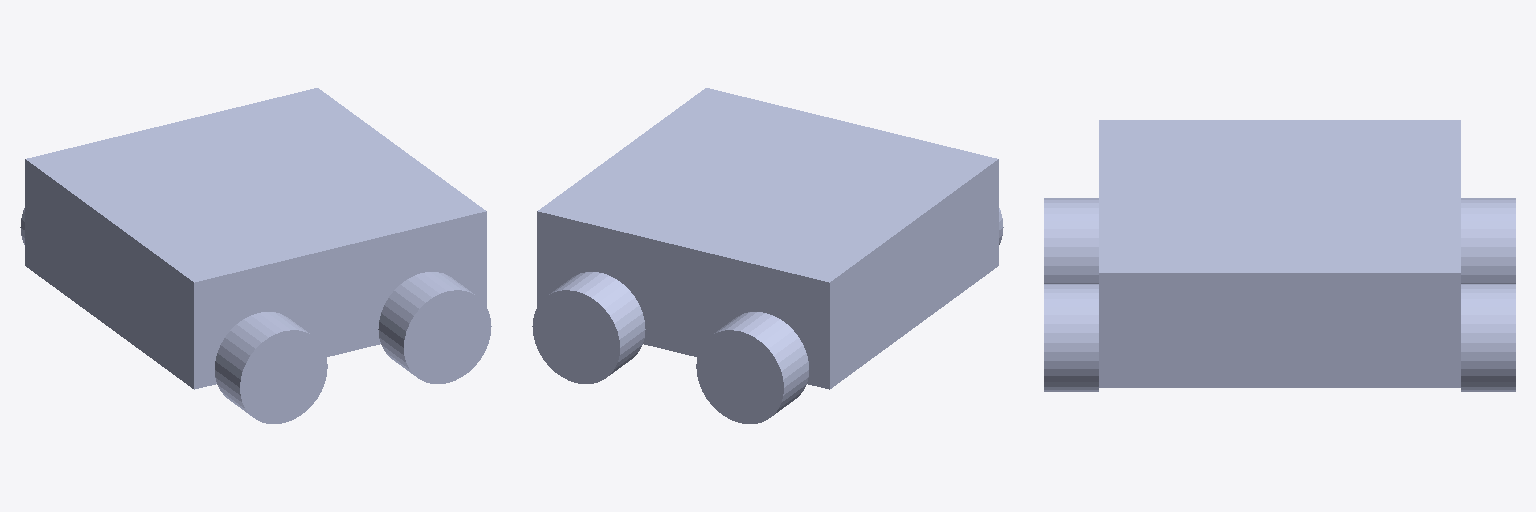
The robot description file, URDF, robot "robot_1":
<?xml version="1.0" encoding="utf-8"?>
<robot name="robot_1">

    <!-- Define the base_footprint link -->
    <link name="base_footprint">
        <!-- Define inertial, visual, and collision properties if needed -->
    </link>

    <!-- Define the base_link link -->
    <link name="base_link">
        <inertial>
            <origin xyz="0 0 0" rpy="0 0 0"/>
            <mass value="2.79660707993412"/>
            <inertia ixx="0.0104497675683349" ixy="0" ixz="0" iyy="0.0104638880534191" iyz="0" izz="0.018631250518789"/>
        </inertial>
        <visual>
            <origin xyz="0 0 0" rpy="0 0 0"/>
            <geometry>
                <mesh filename="package://robot_1/meshes/base_link.STL"/>
            </geometry>
            <material name="">
                <color rgba="0.792156862745098 0.819607843137255 0.933333333333333 1"/>
            </material>
        </visual>
        <collision>
            <origin xyz="0 0 0" rpy="0 0 0"/>
            <geometry>
                <mesh filename="package://robot_1/meshes/base_link.STL"/>
            </geometry>
        </collision>
    </link>

    <!-- Define the base_joint -->
    <joint name="base_joint" type="fixed">
        <origin xyz="0 0 0" rpy="0 0 0"/>
        <parent link="base_footprint"/>
        <child link="base_link"/>
        <axis xyz="0 0 1"/>
    </joint>

    <!-- Define Front_Left link -->
    <link name="Front_Left">
        <inertial>
            <origin xyz="0 0 0" rpy="0 0 0"/>
            <mass value="0.0853884883245706"/>
            <inertia ixx="2.58181109779992E-05" ixy="0" ixz="0" iyy="2.58181109779992E-05" iyz="0" izz="3.81728954311654E-05"/>
        </inertial>
        <visual>
            <origin xyz="0 0 0" rpy="0 0 0"/>
            <geometry>
                <mesh filename="package://robot_1/meshes/Front_Left.STL"/>
            </geometry>
            <material name="">
                <color rgba="0.792156862745098 0.819607843137255 0.933333333333333 1"/>
            </material>
        </visual>
        <collision>
            <origin xyz="0 0 0" rpy="0 0 0"/>
            <geometry>
                <mesh filename="package://robot_1/meshes/Front_Left.STL"/>
            </geometry>
        </collision>
    </link>

    <!-- Define FrontLeft joint -->
    <joint name="FrontLeft" type="continuous">
        <origin xyz="0.056 0.13 -0.06" rpy="-1.5707963267949 0 0"/>
        <parent link="base_link"/>
        <child link="Front_Left"/>
        <axis xyz="0 0 -1"/>
        <limit effort="10" velocity="10"/>
        <dynamics damping="0.1" friction="0.1"/>
    </joint>

    <!-- Define Back_Left link -->
    <link name="Back_Left">
        <inertial>
            <origin xyz="0 0 0" rpy="0 0 0"/>
            <mass value="0.0853884883245706"/>
            <inertia ixx="2.58181109779992E-05" ixy="0" ixz="0" iyy="2.58181109779992E-05" iyz="0" izz="3.81728954311654E-05"/>
        </inertial>
        <visual>
            <origin xyz="0 0 0" rpy="0 0 0"/>
            <geometry>
                <mesh filename="package://robot_1/meshes/Back_Left.STL"/>
            </geometry>
            <material name="">
                <color rgba="0.792156862745098 0.819607843137255 0.933333333333333 1"/>
            </material>
        </visual>
        <collision>
            <origin xyz="0 0 0" rpy="0 0 0"/>
            <geometry>
                <mesh filename="package://robot_1/meshes/Back_Left.STL"/>
            </geometry>
        </collision>
    </link>

    <!-- Define BackLeft joint -->
    <joint name="BackLeft" type="continuous">
        <origin xyz="-0.056 0.13 -0.06" rpy="-1.5707963267949 0 0"/>
        <parent link="base_link"/>
        <child link="Back_Left"/>
        <axis xyz="0 0 -1"/>
        <limit effort="10" velocity="10"/>
        <dynamics damping="0.1" friction="0.1"/>
    </joint>

    <!-- Define Front_Right link -->
    <link name="Front_Right">
        <inertial>
            <origin xyz="0 0 0" rpy="0 0 0"/>
            <mass value="0.0853884883245706"/>
            <inertia ixx="2.58181109779992E-05" ixy="0" ixz="0" iyy="2.58181109779992E-05" iyz="0" izz="3.81728954311654E-05"/>
        </inertial>
        <visual>
            <origin xyz="0 0 0" rpy="0 0 0"/>
            <geometry>
                <mesh filename="package://robot_1/meshes/Front_Right.STL"/>
            </geometry>
            <material name="">
                <color rgba="0.792156862745098 0.819607843137255 0.933333333333333 1"/>
            </material>
        </visual>
        <collision>
            <origin xyz="0 0 0" rpy="0 0 0"/>
            <geometry>
                <mesh filename="package://robot_1/meshes/Front_Right.STL"/>
            </geometry>
        </collision>
    </link>

    <!-- Define FrontRight joint -->
    <joint name="FrontRight" type="continuous">
        <origin xyz="0.056 -0.13 -0.06" rpy="-1.5707963267949 0 0"/>
        <parent link="base_link"/>
        <child link="Front_Right"/>
        <axis xyz="0 0 1"/>
        <limit effort="10" velocity="10"/>
        <dynamics damping="0.1" friction="0.1"/>
    </joint>

    <!-- Define Back_Right link -->
    <link name="Back_Right">
        <inertial>
            <origin xyz="0 0 0" rpy="0 0 0"/>
            <mass value="0.0853884883245706"/>
            <inertia ixx="2.58181109779992E-05" ixy="0" ixz="0" iyy="2.58181109779992E-05" iyz="0" izz="3.81728954311654E-05"/>
        </inertial>
        <visual>
            <origin xyz="0 0 0" rpy="0 0 0"/>
            <geometry>
                <mesh filename="package://robot_1/meshes/Back_Right.STL"/>
            </geometry>
            <material name="">
                <color rgba="0.792156862745098 0.819607843137255 0.933333333333333 1"/>
            </material>
        </visual>
        <collision>
            <origin xyz="0 0 0" rpy="0 0 0"/>
            <geometry>
                <mesh filename="package://robot_1/meshes/Back_Right.STL"/>
            </geometry>
        </collision>
    </link>

    <!-- Define BackRight joint -->
    <joint name="BackRight" type="continuous">
        <origin xyz="-0.056 -0.13 -0.06" rpy="-1.5707963267949 0 0"/>
        <parent link="base_link"/>
        <child link="Back_Right"/>
        <axis xyz="0 0 1"/>
        <limit effort="10" velocity="10"/>
        <dynamics damping="0.1" friction="0.1"/>
    </joint>

    <!-- Gazebo plugin -->
    <gazebo>
        <plugin name="skid_steer_drive_controller" filename="libgazebo_ros_skid_steer_drive.so">
            <updateRate>100.0</updateRate>
            <robotNamespace>/</robotNamespace>
            <leftFrontJoint>FrontLeft</leftFrontJoint>
            <rightFrontJoint>FrontRight</rightFrontJoint>
            <leftRearJoint>BackLeft</leftRearJoint>
            <rightRearJoint>BackRight</rightRearJoint>
            <wheelSeparation>0.4</wheelSeparation>
            <wheelDiameter>0.215</wheelDiameter>
            <robotBaseFrame>base_link</robotBaseFrame>
            <torque>20</torque>
            <publishWheelTF>true</publishWheelTF>
            <publishWheelJointState>true</publishWheelJointState>
            <topicName>cmd_vel</topicName>
            <odometryTopic>/odom</odometryTopic>
            <odometryFrame>odom</odometryFrame>
            <broadcastTF>false</broadcastTF>
        </plugin>
    </gazebo>
  <!-- hokuyo -->
  <gazebo reference="hokuyo_link">
    <sensor type="gpu_ray" name="head_hokuyo_sensor">
      <pose>0 0 0 0 0 0</pose>
      <visualize>false</visualize>
      <update_rate>40</update_rate>
      <ray>
        <scan>
          <horizontal>
            <samples>720</samples>
            <resolution>1</resolution>
            <min_angle>-1.570796</min_angle>
            <max_angle>1.570796</max_angle>
          </horizontal>
        </scan>
        <range>
          <min>0.10</min>
          <max>30.0</max>
          <resolution>0.01</resolution>
        </range>
        <noise>
          <type>gaussian</type>
          <!-- Noise parameters based on published spec for Hokuyo laser
               achieving "+-30mm" accuracy at range < 10m.  A mean of 0.0m and
               stddev of 0.01m will put 99.7% of samples within 0.03m of the true
               reading. -->
          <mean>0.0</mean>
          <stddev>0.01</stddev>
        </noise>
      </ray>
      <plugin name="gazebo_ros_head_hokuyo_controller" filename="libgazebo_ros_gpu_laser.so">
        <topicName>/rrbot/laser/scan</topicName>
        <frameName>hokuyo_link</frameName>
      </plugin>
    </sensor>
  </gazebo>
</robot>

--- What the picture shows (computed from the rendered views, not written in the file) ---
The picture shows the robot from 3 angles, left to right: view 1: azimuth 30°, elevation 25°; view 2: azimuth 150°, elevation 25°; view 3: azimuth 270°, elevation 25°; orthographic projection.
Model robot_1 with 6 links and 5 joints (4 continuous, 1 fixed), rooted at base_footprint, posed every joint at zero.
Links seen in each view (by area): view 1: base_link, Back_Right, Front_Right; view 2: base_link, Back_Left, Front_Left; view 3: base_link, Front_Left, Front_Right, Back_Left, Back_Right.
Link boxes in pixels (x1,y1,x2,y2): base_link: (25,88,486,389); Back_Right: (215,312,327,423); Front_Right: (378,272,491,383); base_link: (537,88,998,389); Back_Left: (696,312,808,423); Front_Left: (532,272,645,383); base_link: (1099,120,1460,387); Front_Left: (1461,284,1515,391); Front_Right: (1044,284,1098,391); Back_Left: (1461,198,1515,283); Back_Right: (1044,198,1098,283).
Size in the robot's own frame: 0.2 by 0.26 by 0.09 metres.
Meshes: 5 distinct files referenced, 5 mesh visuals loaded (5 binary STL).